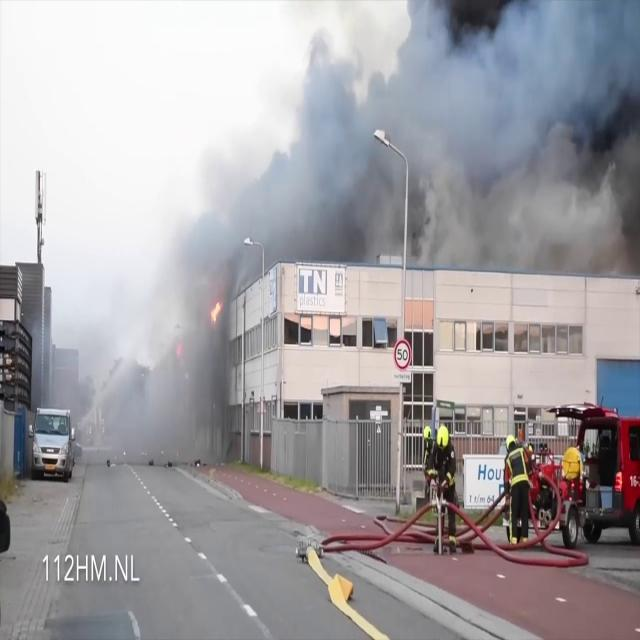Smoke: (196, 1, 640, 268), (96, 229, 240, 477)
